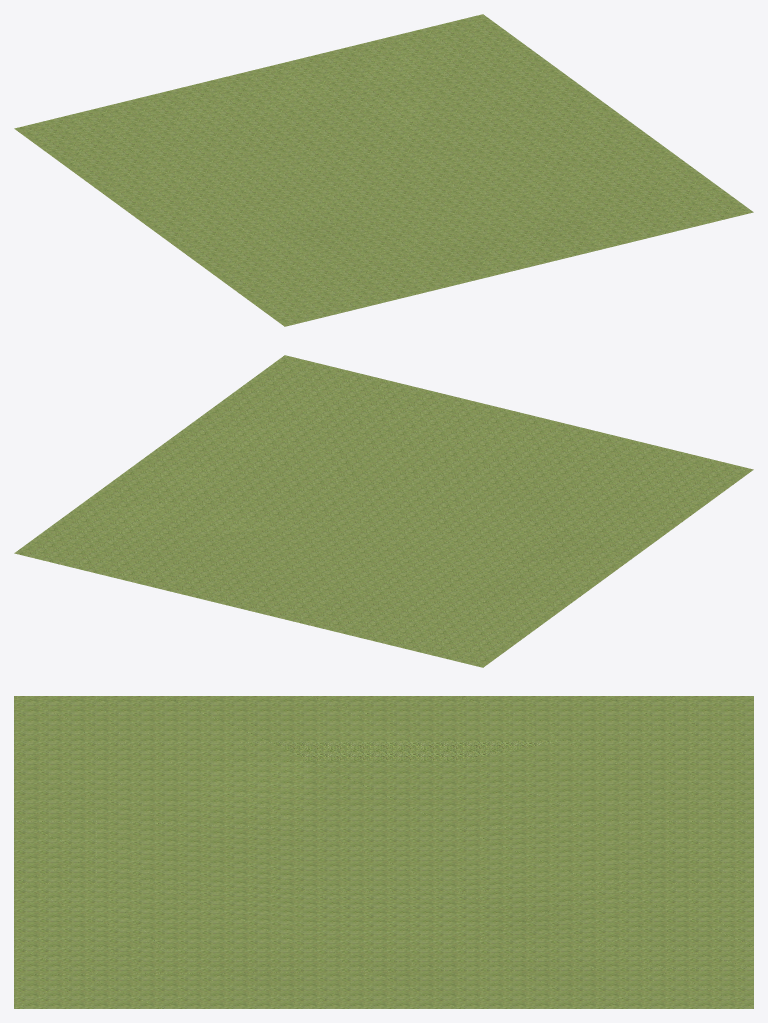
Rendered from map50GA.fbx.
3 renders of one model, top to bottom at view 1: azimuth 30°, elevation 25°; view 2: azimuth 150°, elevation 25°; view 3: azimuth 270°, elevation 25°, orthographic. The views are drawn at different scales.
Parts seen in each view (by area): view 1: map50GA; view 2: map50GA; view 3: map50GA.
Boxes of the visible parts, left/top/right/bottom form: map50GA: left=14, top=14, right=753, bottom=326; map50GA: left=14, top=355, right=753, bottom=667; map50GA: left=14, top=696, right=753, bottom=1008.
Bounding box in the file's own units: 1 × 0.0117 × 1.
1 material, 1 textured.
